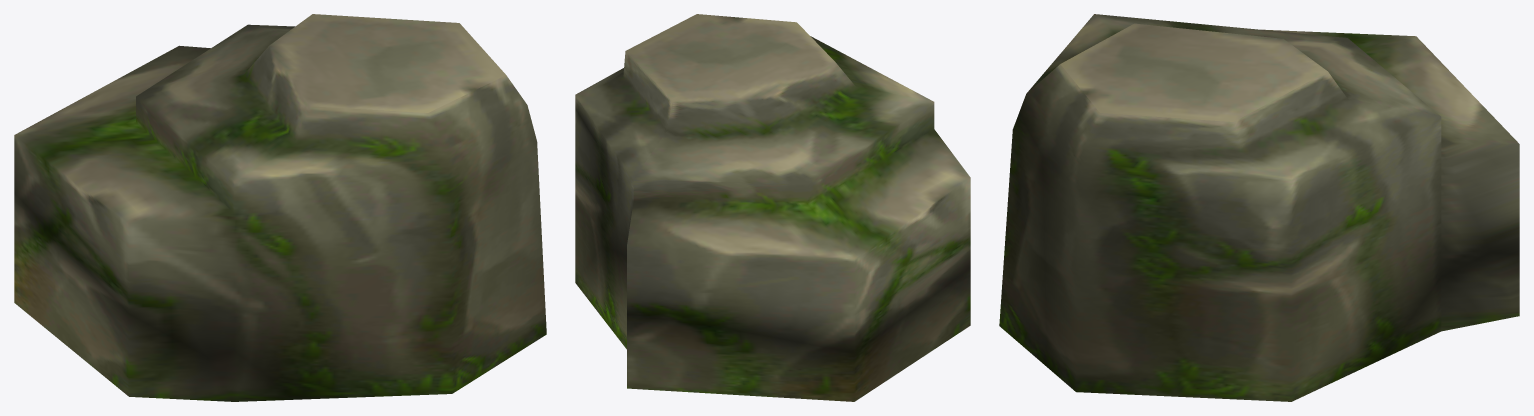
File: RockFormation_4_5 (47).fbx
The picture shows the model from 3 angles, left to right: view 1: azimuth 30°, elevation 25°; view 2: azimuth 150°, elevation 25°; view 3: azimuth 270°, elevation 25°; orthographic projection. The views are drawn at different scales.
Visible parts, largest first — view 1: RockFormation_4_5 (47); view 2: RockFormation_4_5 (47); view 3: RockFormation_4_5 (47).
Part boxes in pixels (x1=…): RockFormation_4_5 (47): x1=14, y1=14, x2=546, y2=401; RockFormation_4_5 (47): x1=575, y1=14, x2=970, y2=401; RockFormation_4_5 (47): x1=999, y1=14, x2=1519, y2=401.
Bounding box in the file's own units: 349 × 217 × 386.
